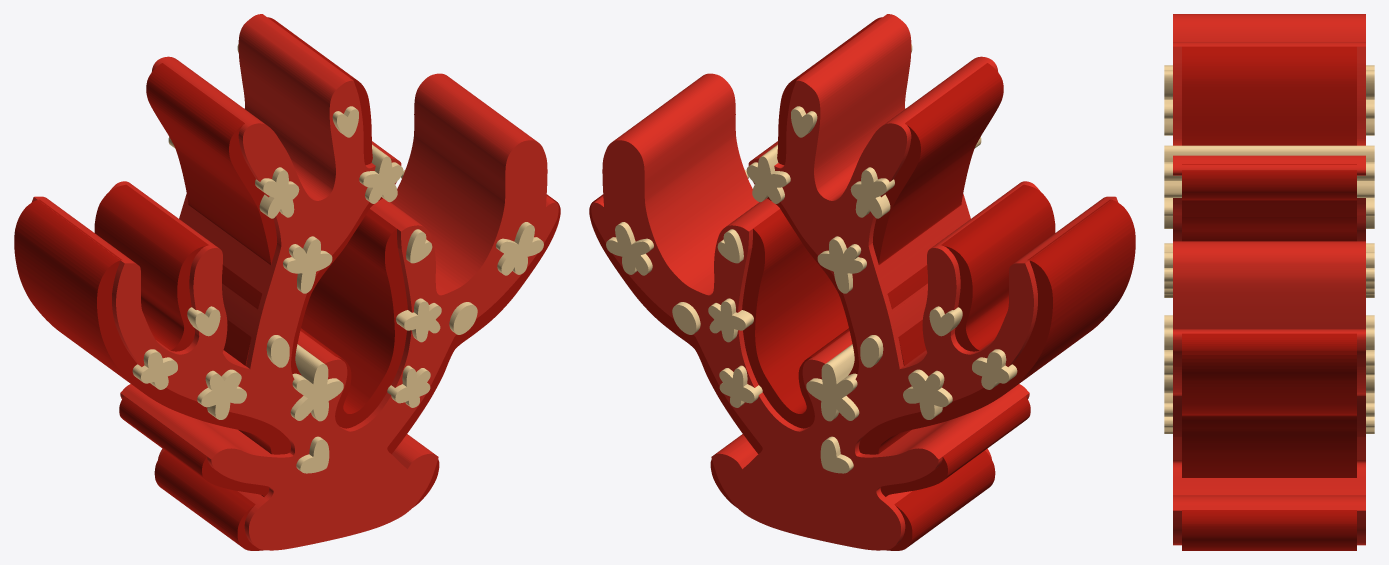
Rendered from U+1FAB8.obj.
3 renders of one model, left to right at view 1: azimuth 30°, elevation 25°; view 2: azimuth 150°, elevation 25°; view 3: azimuth 270°, elevation 25°, orthographic. The views are drawn at different scales.
Parts seen in each view (by area): view 1: U+1FAB8_layer01_obj00, U+1FAB8_layer00_obj00, U+1FAB8_layer02_obj13, U+1FAB8_layer02_obj07, U+1FAB8_layer02_obj11, U+1FAB8_layer02_obj05, U+1FAB8_layer02_obj08, U+1FAB8_layer02_obj12, U+1FAB8_layer02_obj01, U+1FAB8_layer02_obj10, U+1FAB8_layer02_obj00, U+1FAB8_layer02_obj04 (+2 smaller); view 2: U+1FAB8_layer01_obj00, U+1FAB8_layer00_obj00, U+1FAB8_layer02_obj13, U+1FAB8_layer02_obj07, U+1FAB8_layer02_obj11, U+1FAB8_layer02_obj05, U+1FAB8_layer02_obj08, U+1FAB8_layer02_obj12, U+1FAB8_layer02_obj01, U+1FAB8_layer02_obj10, U+1FAB8_layer02_obj00, U+1FAB8_layer02_obj04 (+2 smaller); view 3: U+1FAB8_layer00_obj00, U+1FAB8_layer01_obj00, U+1FAB8_layer02_obj08, U+1FAB8_layer02_obj05, U+1FAB8_layer02_obj00, U+1FAB8_layer02_obj12, U+1FAB8_layer02_obj03, U+1FAB8_layer02_obj09, U+1FAB8_layer02_obj11, U+1FAB8_layer02_obj07, U+1FAB8_layer02_obj14.
Part boxes in pixels (x1,y1,x2,y2): U+1FAB8_layer01_obj00: (31, 14, 558, 550); U+1FAB8_layer00_obj00: (14, 17, 560, 550); U+1FAB8_layer02_obj13: (290, 344, 343, 421); U+1FAB8_layer02_obj07: (197, 369, 246, 419); U+1FAB8_layer02_obj11: (283, 236, 332, 293); U+1FAB8_layer02_obj05: (401, 170, 543, 275); U+1FAB8_layer02_obj08: (359, 144, 403, 203); U+1FAB8_layer02_obj12: (168, 137, 299, 218); U+1FAB8_layer02_obj01: (396, 298, 441, 342); U+1FAB8_layer02_obj10: (132, 349, 177, 389); U+1FAB8_layer02_obj00: (387, 365, 430, 407); U+1FAB8_layer02_obj04: (296, 436, 329, 473); U+1FAB8_layer01_obj00: (591, 14, 1118, 550); U+1FAB8_layer00_obj00: (589, 17, 1135, 550); U+1FAB8_layer02_obj13: (806, 344, 859, 421); U+1FAB8_layer02_obj07: (903, 369, 952, 419); U+1FAB8_layer02_obj11: (817, 236, 866, 293); U+1FAB8_layer02_obj05: (606, 170, 748, 275); U+1FAB8_layer02_obj08: (746, 144, 790, 203); U+1FAB8_layer02_obj12: (850, 137, 981, 218); U+1FAB8_layer02_obj01: (708, 298, 753, 342); U+1FAB8_layer02_obj10: (972, 349, 1017, 389); U+1FAB8_layer02_obj00: (719, 365, 762, 407); U+1FAB8_layer02_obj04: (820, 436, 853, 473); U+1FAB8_layer00_obj00: (1182, 46, 1356, 550); U+1FAB8_layer01_obj00: (1173, 14, 1365, 545); U+1FAB8_layer02_obj08: (1164, 145, 1374, 197); U+1FAB8_layer02_obj05: (1164, 328, 1374, 375); U+1FAB8_layer02_obj00: (1164, 393, 1374, 433); U+1FAB8_layer02_obj12: (1164, 97, 1374, 135); U+1FAB8_layer02_obj03: (1164, 65, 1374, 97); U+1FAB8_layer02_obj09: (1164, 252, 1374, 282); U+1FAB8_layer02_obj11: (1164, 198, 1374, 228); U+1FAB8_layer02_obj07: (1164, 243, 1374, 297); U+1FAB8_layer02_obj14: (1164, 375, 1374, 393).
Size of the model in its own units: 0.3236 by 0.3035 by 0.12.
